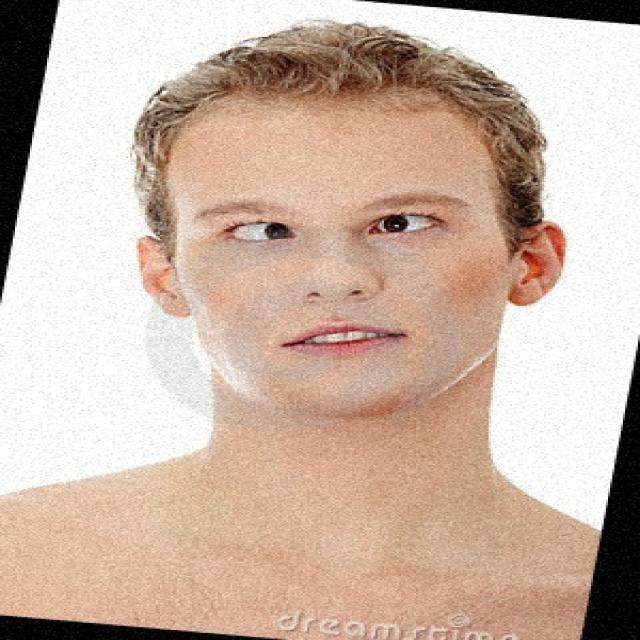Squint: (209, 202, 301, 253), (360, 191, 446, 240)
